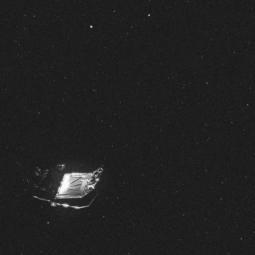lisa_pathfinder: (13, 140, 110, 222)
